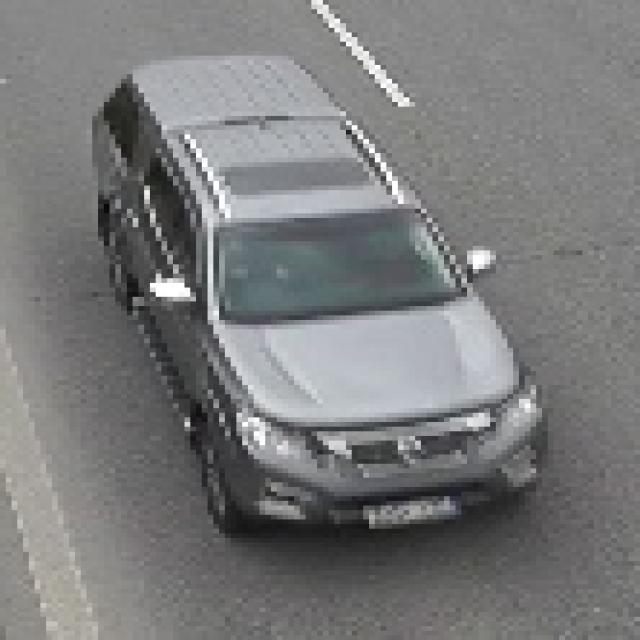SUV: (91, 73, 518, 523)
